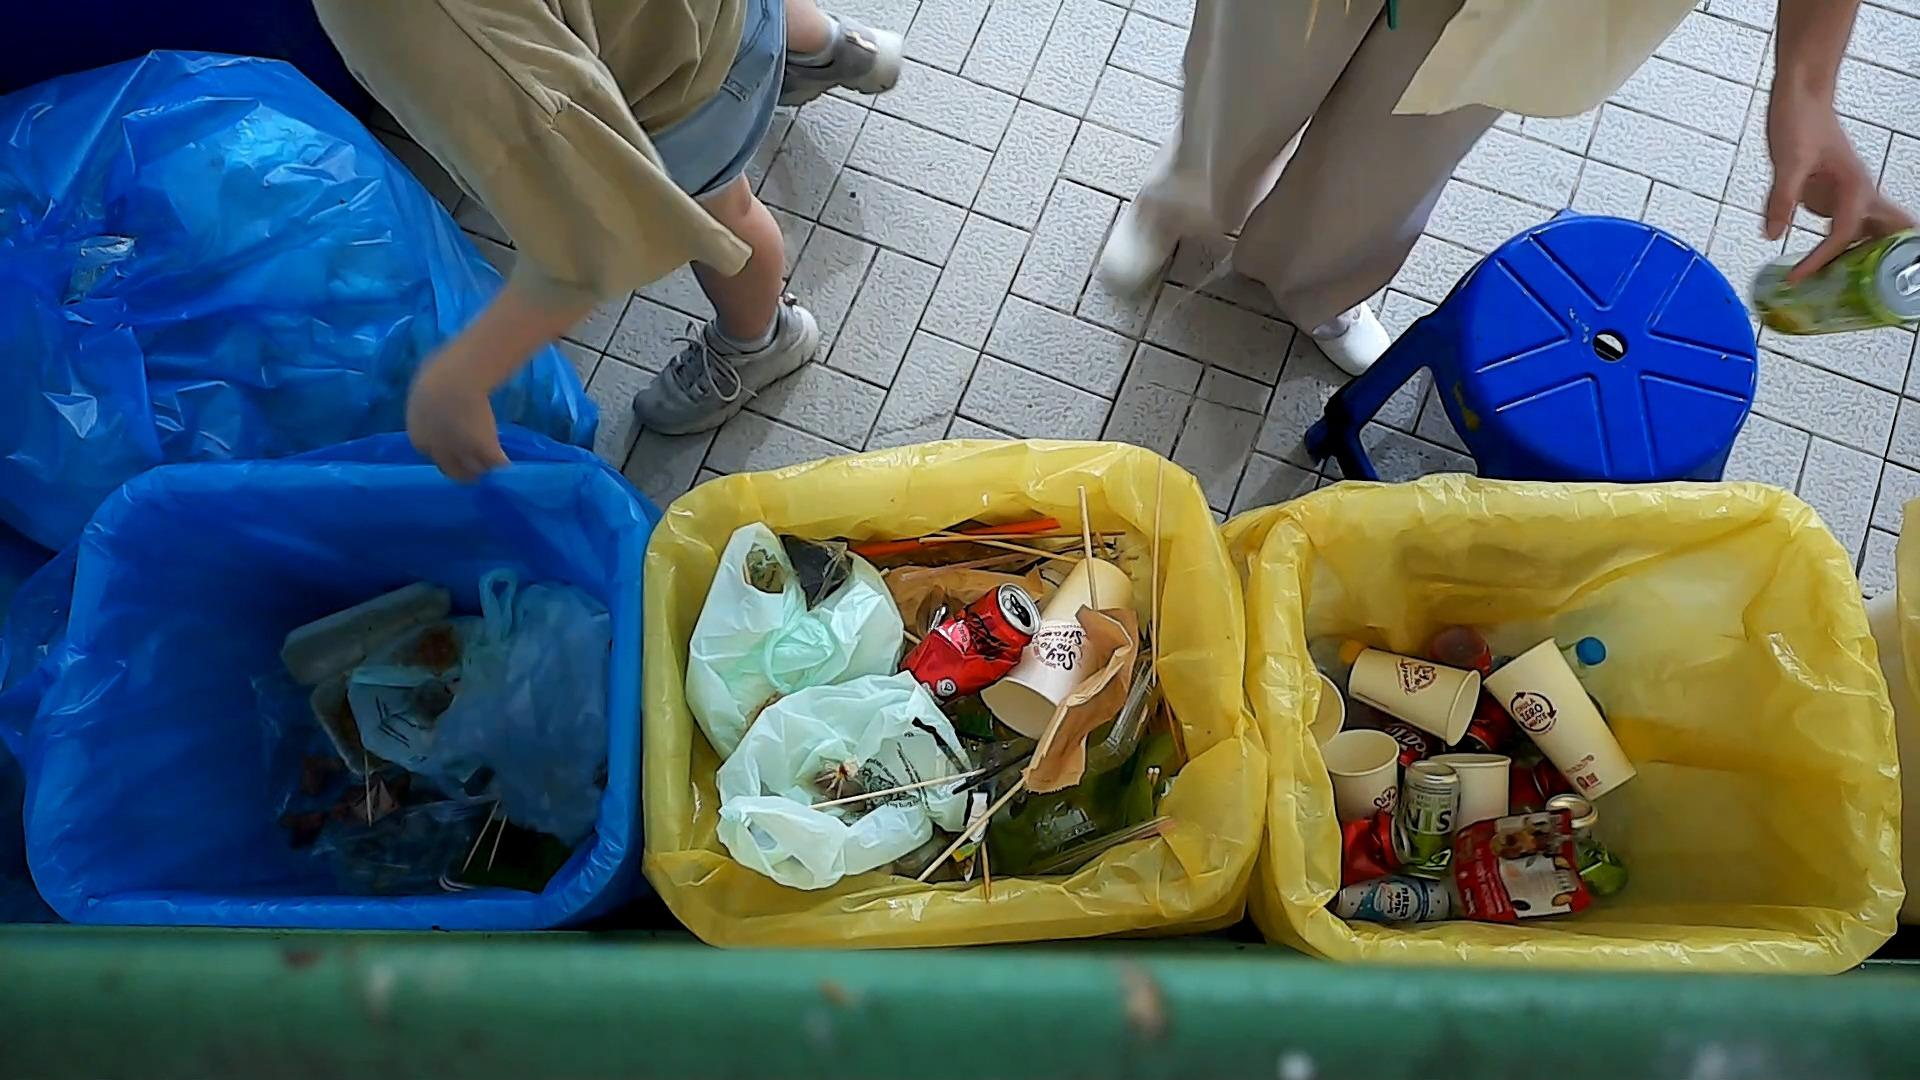can: (1745, 228, 1920, 344), (913, 584, 1046, 704), (1544, 790, 1634, 903), (1398, 758, 1464, 884), (1331, 873, 1452, 927), (1338, 806, 1414, 893)
filled plastic bag: (671, 517, 914, 760), (342, 564, 520, 782)
paper bag: (1019, 603, 1146, 798), (886, 559, 1052, 644)
plastic bag: (712, 665, 984, 894), (419, 580, 617, 851)
snack packaging: (1451, 806, 1597, 923)
sticks: (913, 774, 1029, 886), (806, 765, 989, 814), (931, 527, 1080, 567), (915, 525, 1131, 547), (1149, 455, 1167, 690), (458, 802, 502, 877), (1075, 481, 1100, 608), (481, 814, 508, 874)
straw: (901, 550, 1035, 584)
zero waste cup: (980, 551, 1137, 745), (1477, 634, 1639, 810), (1345, 642, 1484, 748), (1319, 727, 1403, 823)
